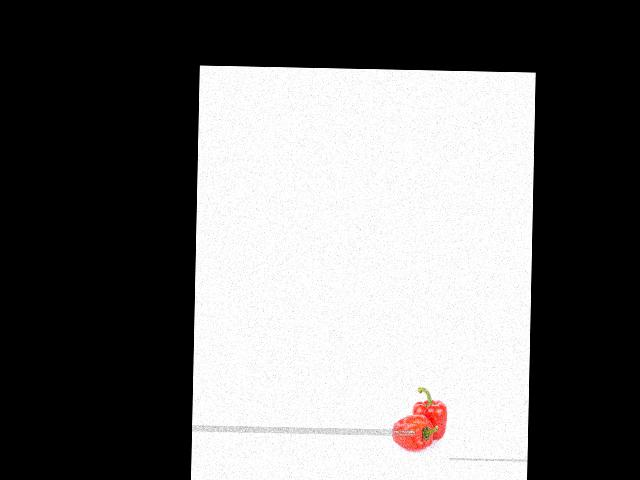bell_pepper: (386, 410, 437, 451)
